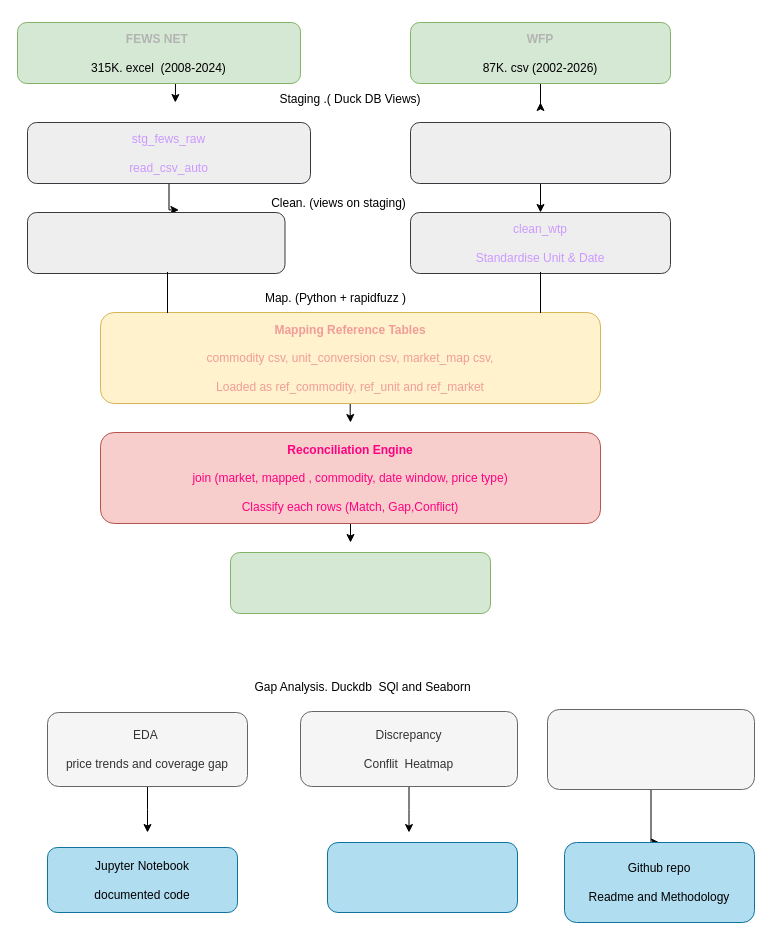
Some shapes in this 772 by 940 pixel diagram are drawn without their labels. Here are the shapes that lost their labels. From the top down, the box of each, then its label:
(410, 122, 670, 184): stg_wfp_raw read_csv_auto
(26, 212, 285, 274): clean_fews Handles nulls & Normalize & Casting
(230, 552, 490, 614): Reconciled csv
(546, 708, 754, 790): Context Layer Inflation ancoring
(326, 842, 518, 912): Power bi Two pages.
